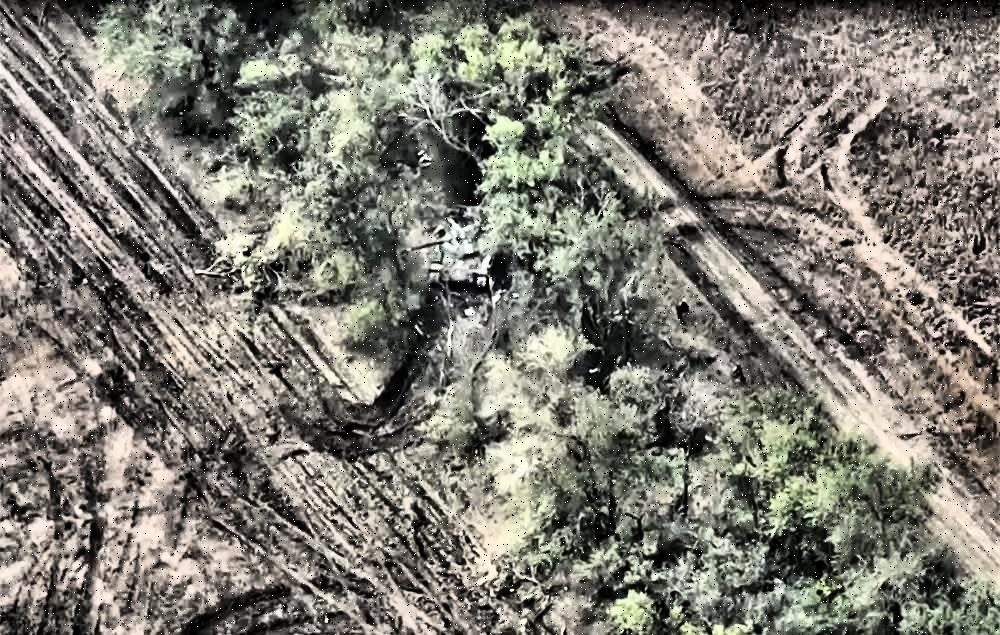military-vehicle: (397, 205, 525, 284)
